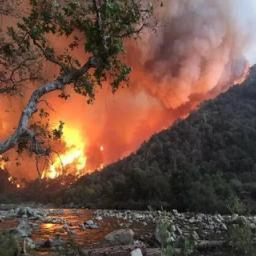Heavy smoke: (70, 7, 250, 140)
Large fire: (0, 89, 206, 204)
